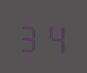four: (43, 19, 66, 53)
three: (19, 19, 42, 52)
